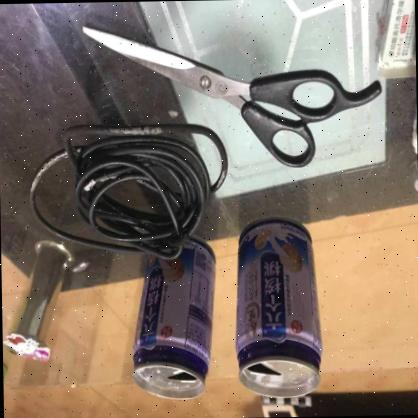can: (233, 218, 321, 400), (130, 236, 212, 398)
